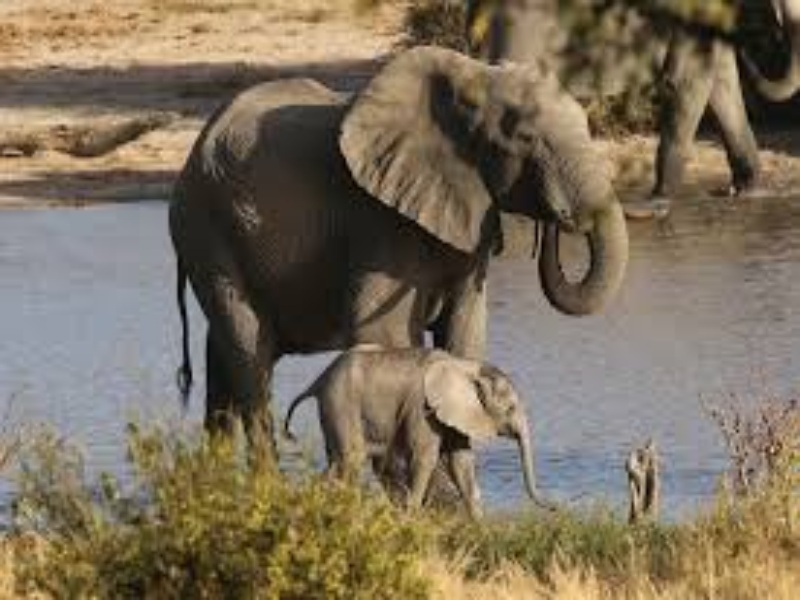elephant: (157, 37, 644, 353), (276, 342, 545, 506)
